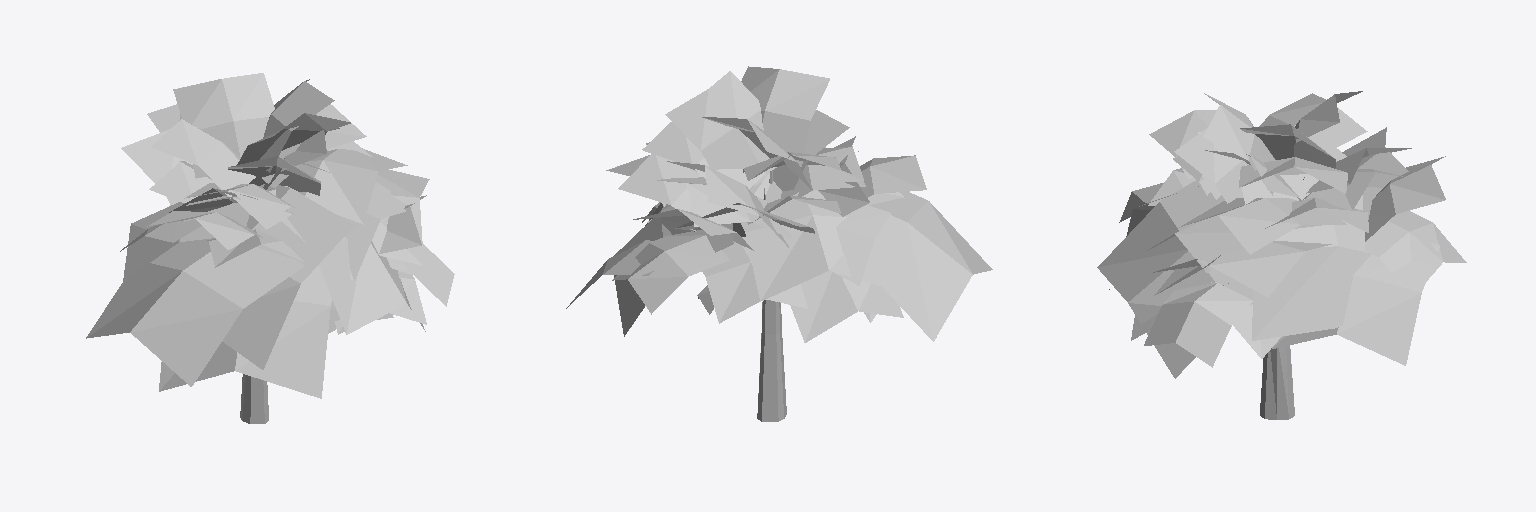
File: tree.obj
3 renders of one model, left to right at view 1: azimuth 30°, elevation 25°; view 2: azimuth 150°, elevation 25°; view 3: azimuth 270°, elevation 25°, orthographic.
Parts seen in each view (by area): view 1: Plane.011, Plane.041, Plane.028, Plane.037, Plane.042, Plane.023, Plane.030, Plane.034, Plane.018, Plane.039, Plane.025, Plane.038 (+15 smaller); view 2: Plane.011, Plane.034, Plane.039, Plane.038, Plane.007, Plane.040, Plane.009, Trunk, Plane.024, Plane.012, Plane.043, Plane.013 (+12 smaller); view 3: Plane.043, Plane.042, Plane.004, Plane.002, Plane.023, Plane.007, Plane.018, Plane.008, Plane.029, Plane.038, Trunk, Plane.030 (+13 smaller).
Part boxes in pixels (bbox=[...]): Plane.011: bbox=[86, 226, 304, 386]; Plane.041: bbox=[222, 184, 354, 369]; Plane.028: bbox=[159, 265, 331, 398]; Plane.037: bbox=[173, 73, 274, 178]; Plane.042: bbox=[269, 186, 425, 334]; Plane.023: bbox=[298, 148, 407, 224]; Plane.030: bbox=[151, 119, 255, 198]; Plane.034: bbox=[123, 186, 259, 280]; Plane.018: bbox=[372, 169, 429, 265]; Plane.039: bbox=[260, 79, 334, 172]; Plane.025: bbox=[336, 182, 412, 280]; Plane.038: bbox=[237, 113, 350, 164]; Plane.011: bbox=[869, 192, 992, 341]; Plane.034: bbox=[741, 181, 890, 301]; Plane.039: bbox=[665, 71, 769, 169]; Plane.038: bbox=[741, 66, 829, 166]; Plane.007: bbox=[612, 235, 729, 314]; Plane.040: bbox=[790, 271, 903, 342]; Plane.009: bbox=[702, 237, 807, 323]; Trunk: bbox=[757, 300, 786, 421]; Plane.024: bbox=[618, 154, 702, 211]; Plane.012: bbox=[831, 205, 890, 285]; Plane.043: bbox=[613, 203, 733, 336]; Plane.013: bbox=[860, 155, 926, 197]; Plane.043: bbox=[1239, 174, 1370, 340]; Plane.042: bbox=[1097, 180, 1252, 378]; Plane.004: bbox=[1272, 243, 1439, 365]; Plane.002: bbox=[1144, 283, 1252, 367]; Plane.023: bbox=[1179, 198, 1346, 254]; Plane.007: bbox=[1365, 211, 1466, 281]; Plane.018: bbox=[1154, 241, 1331, 297]; Plane.008: bbox=[1365, 156, 1445, 241]; Plane.029: bbox=[1174, 128, 1248, 203]; Plane.038: bbox=[1203, 93, 1278, 195]; Trunk: bbox=[1260, 345, 1294, 419]; Plane.030: bbox=[1259, 93, 1367, 174].
Size of the model in its own units: 8.24 by 7.52 by 7.95.